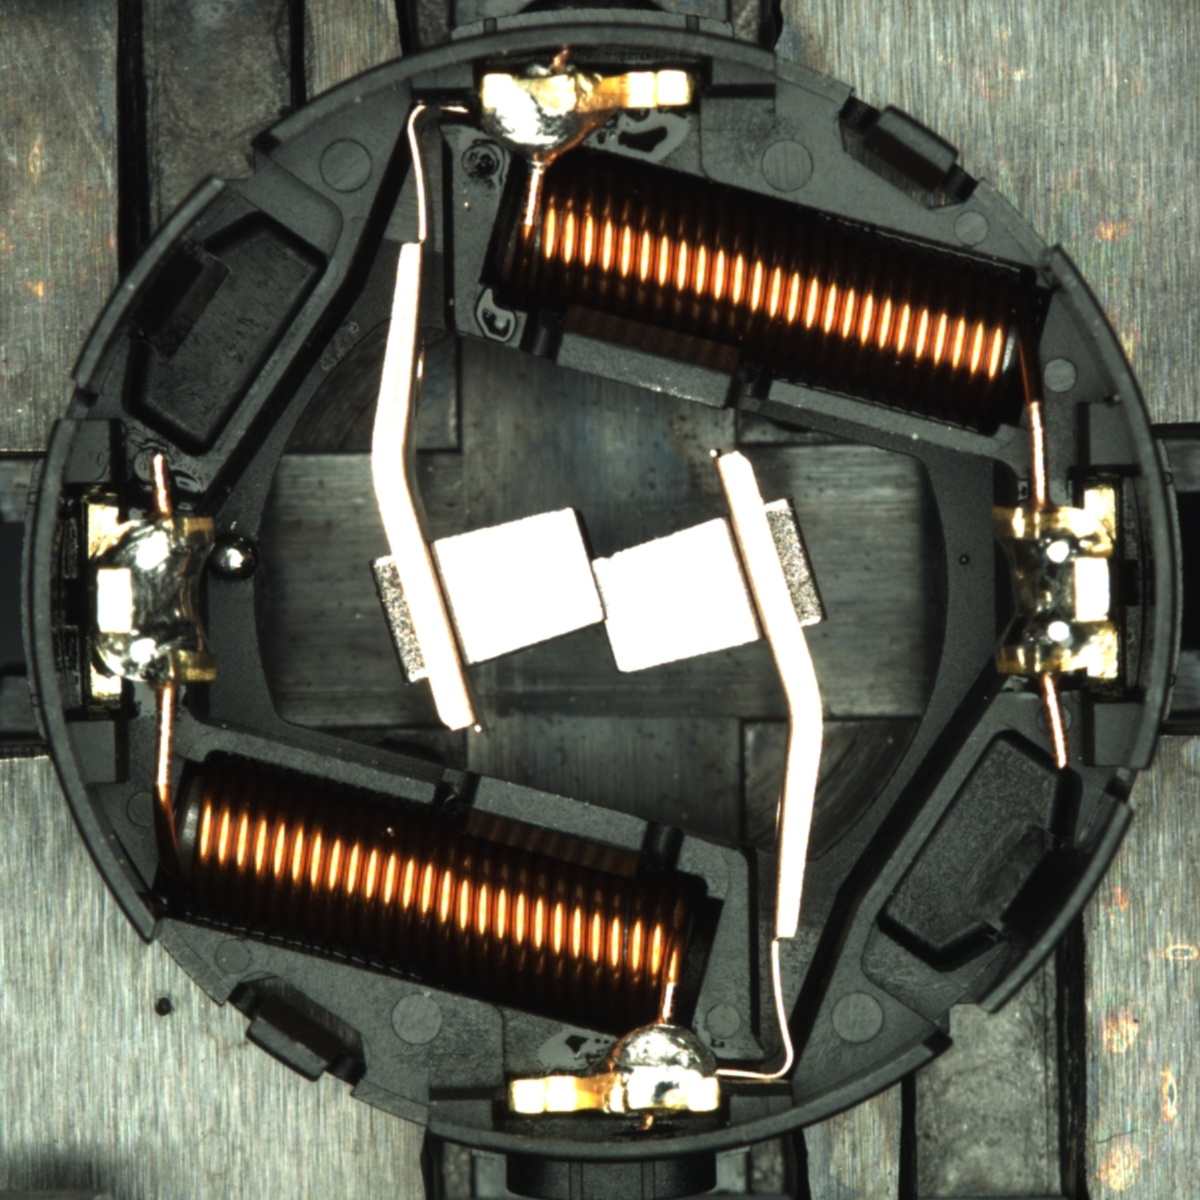1: (252, 30, 481, 254), (710, 927, 940, 1152)
2: (710, 30, 940, 254), (252, 927, 481, 1152)
3: (940, 702, 1168, 927), (22, 254, 252, 478)
4: (710, 702, 940, 927), (252, 254, 481, 478)
5: (481, 142, 710, 366), (481, 815, 710, 1040)
6: (252, 702, 481, 927), (710, 254, 940, 478)
7: (22, 702, 252, 927), (940, 254, 1168, 478)
cacbon: (395, 497, 797, 684)
chau_dien: (80, 498, 222, 701), (984, 487, 1124, 685)
hat_chi: (214, 534, 259, 582)
tay_choi: (479, 69, 696, 170), (508, 1018, 722, 1116)
thanh_de: (954, 787, 1142, 1031), (59, 164, 244, 405)
